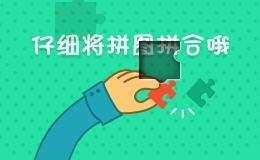target: (116, 21, 160, 60)
